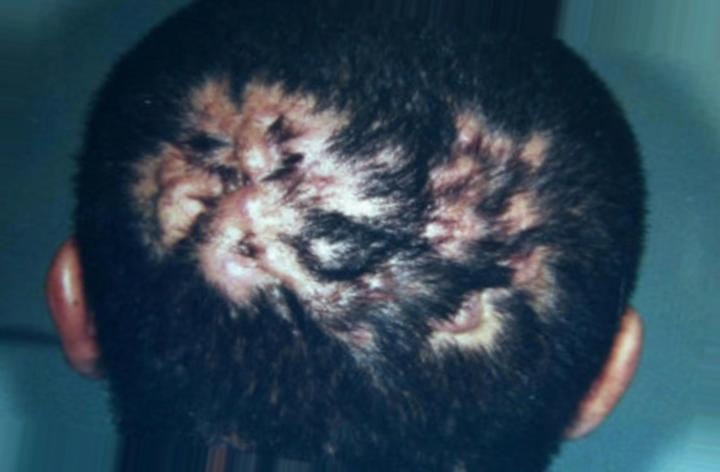Folliculitis: (161, 60, 575, 376)
